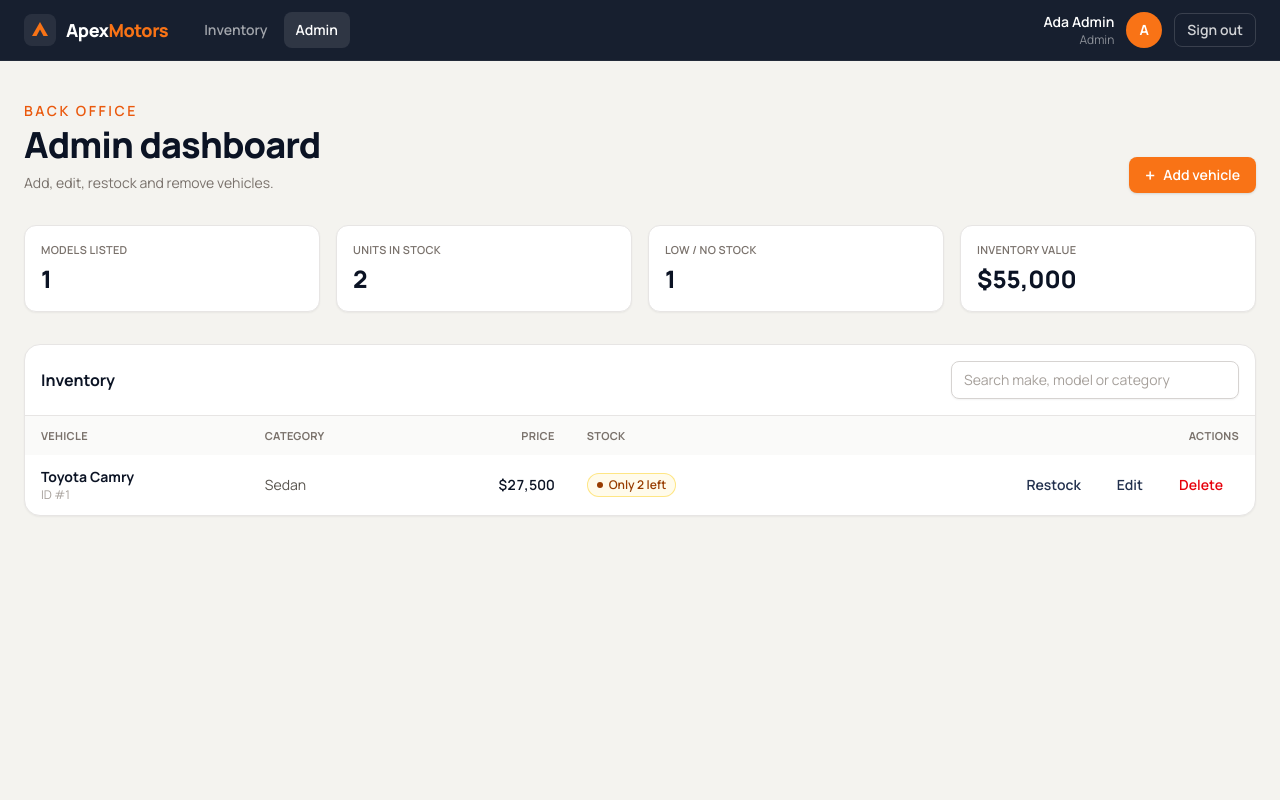
Test case: Admin dashboard › restocks a vehicle
Step 1. Click the button with aria-label "Restock Toyota Camry" → (1054, 485), box [1010,467,1097,503]
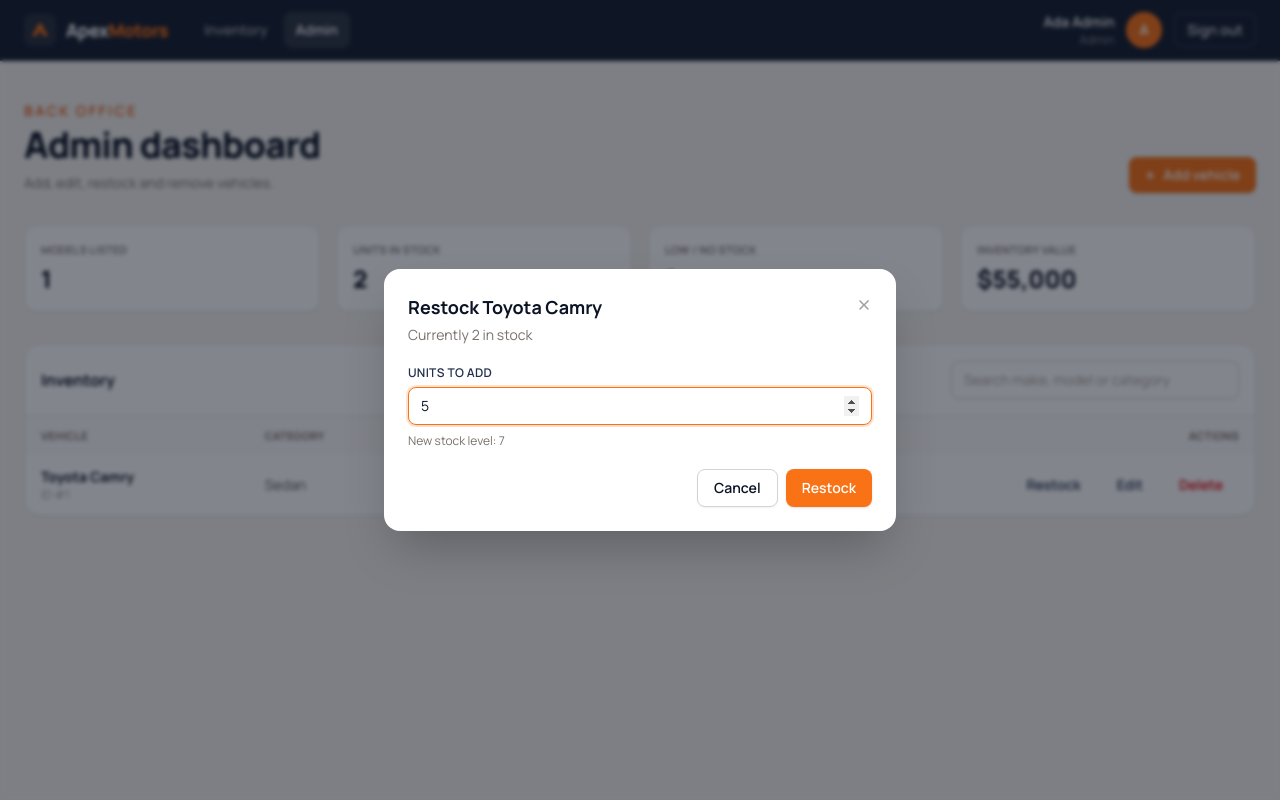
Step 2. Replace the text in the number field labelled "Units to add" with "10" → (640, 406), box [408,387,872,425]
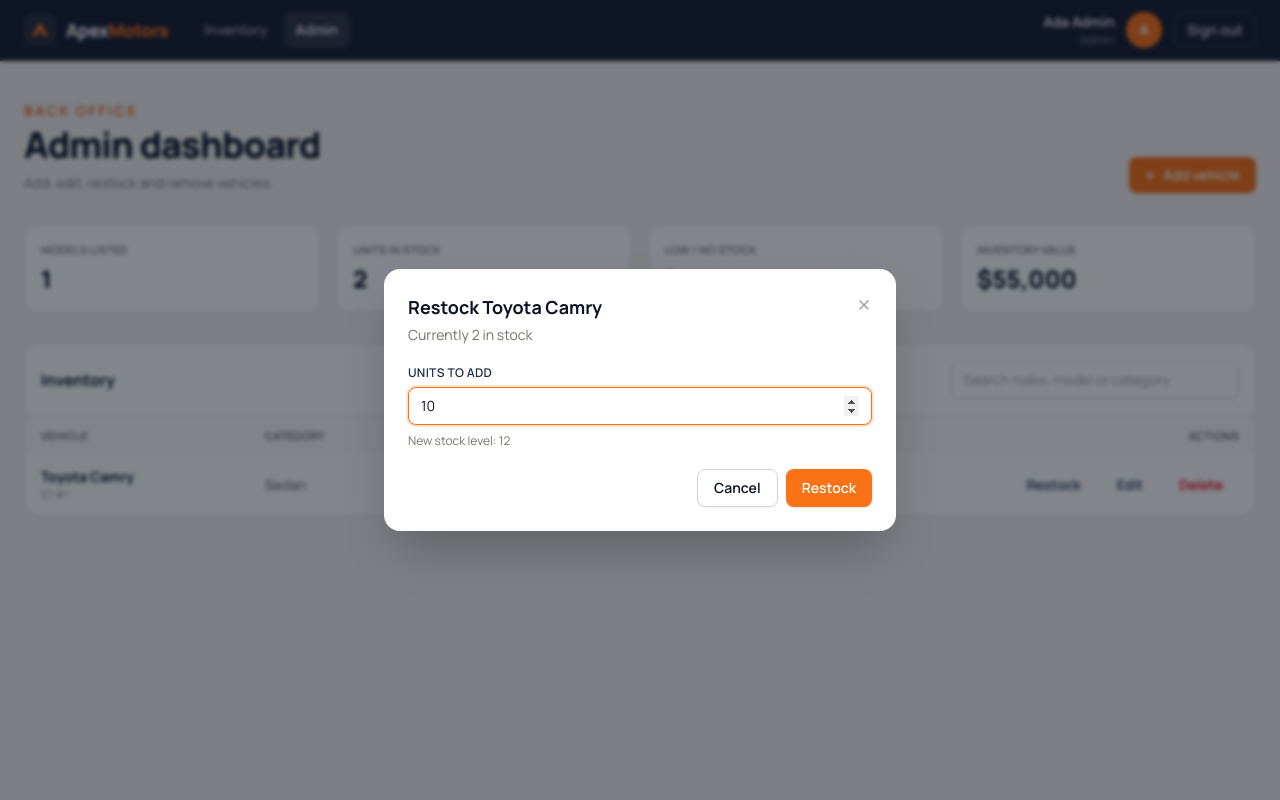
Step 3. Click the button "Restock" → (829, 488), box [786,469,872,507]
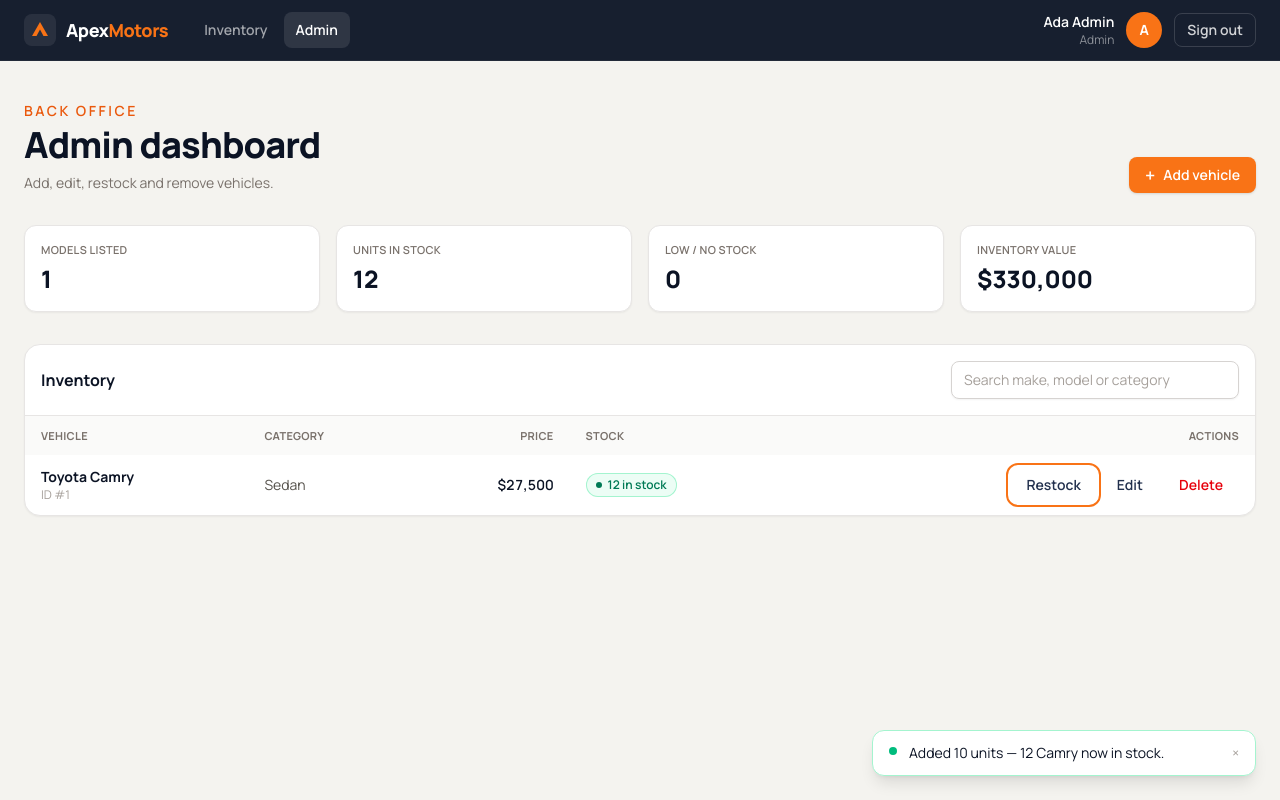
Expected: the text "Added 10 units — 12 Camry now in stock." is shown, [909,743,1164,762]
Expected: the text "Toyota Camry" shows "12 in stock", [608,476,667,493]
